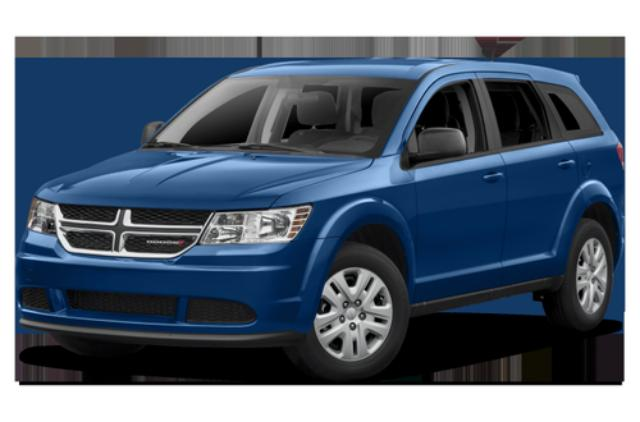dodge: (14, 36, 626, 384)
